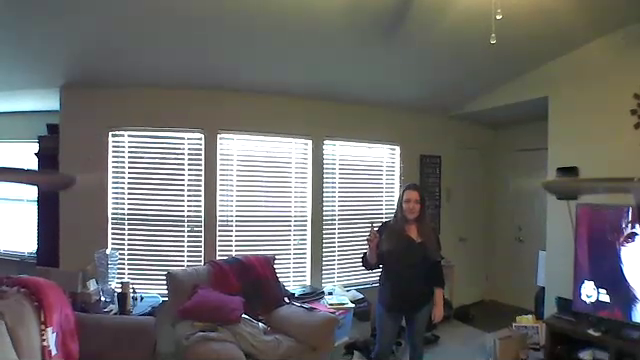up: (360, 219, 381, 252)
